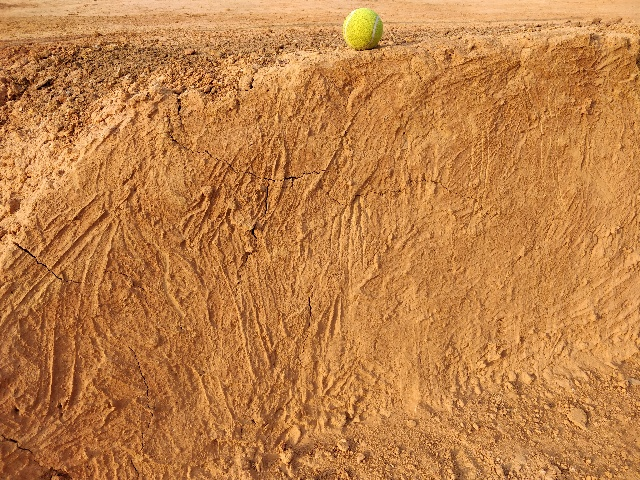ball: (336, 3, 392, 52)
